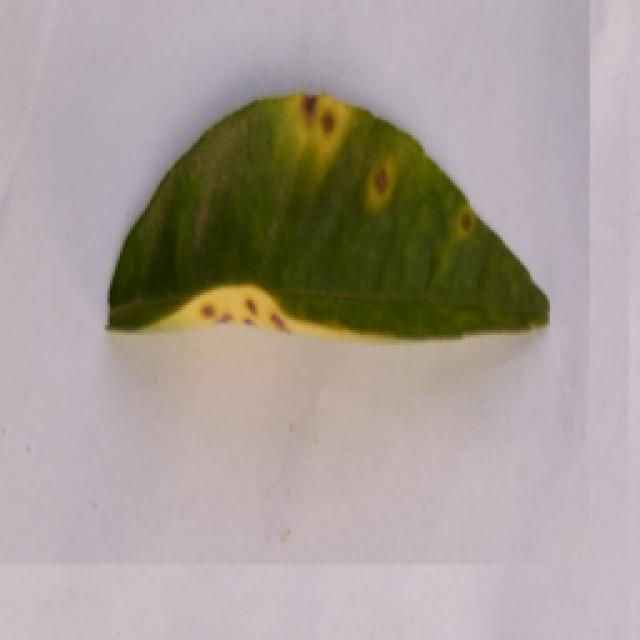canker: (117, 93, 524, 370)
